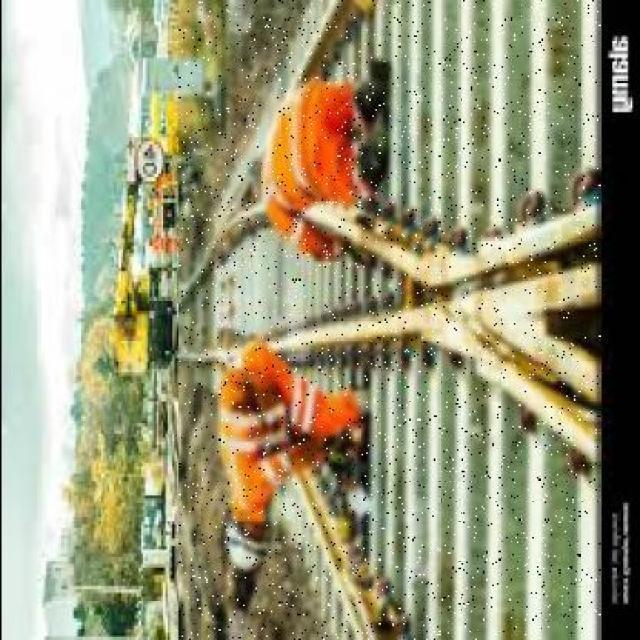rail: (179, 1, 599, 640)
